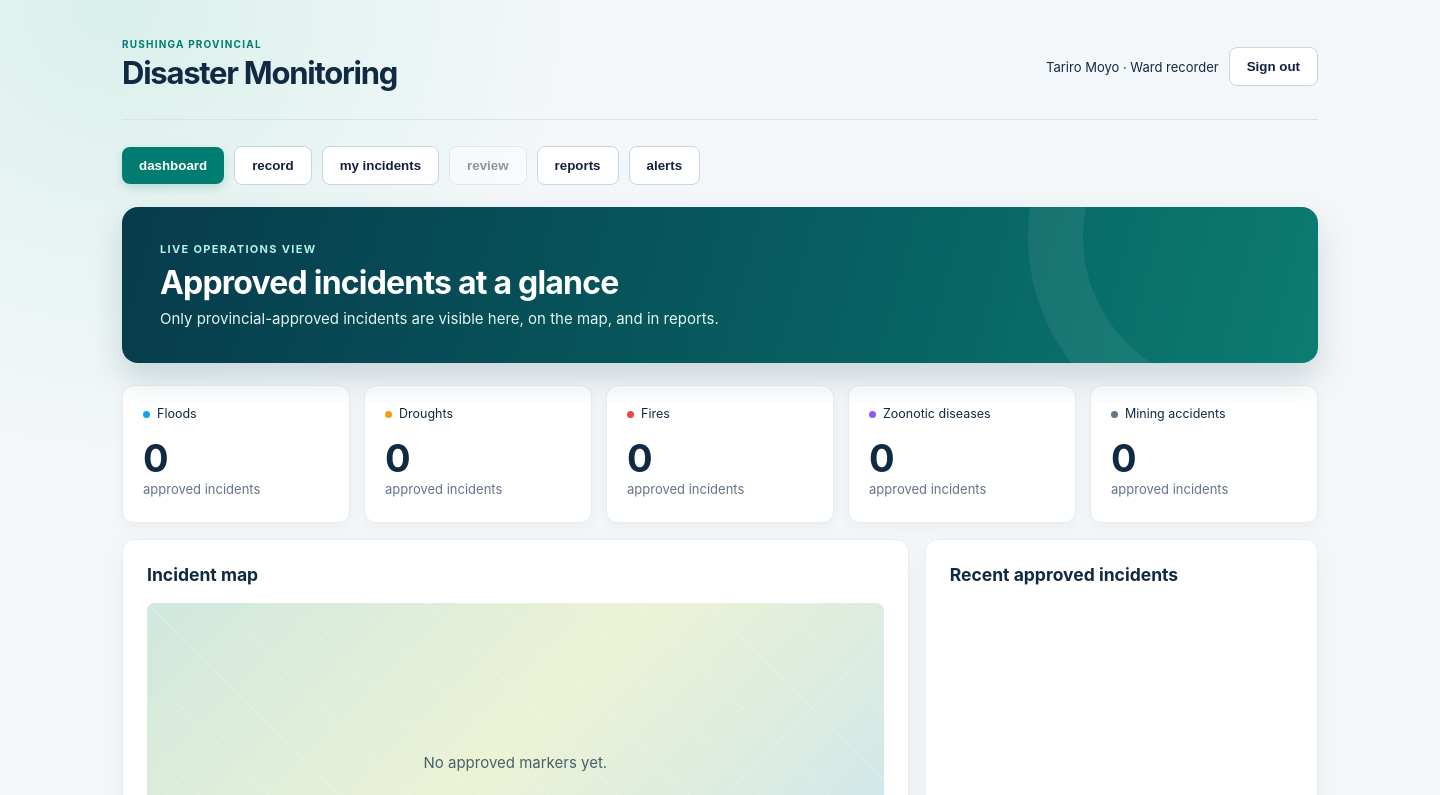
Test case: Incident Submission and Editing Workflows › allows editing and resubmission of an incident marked CORRECTION_REQUESTED
Note: Go to my-incidents
Click the button "my incidents": (380, 166) [322,146,439,185]
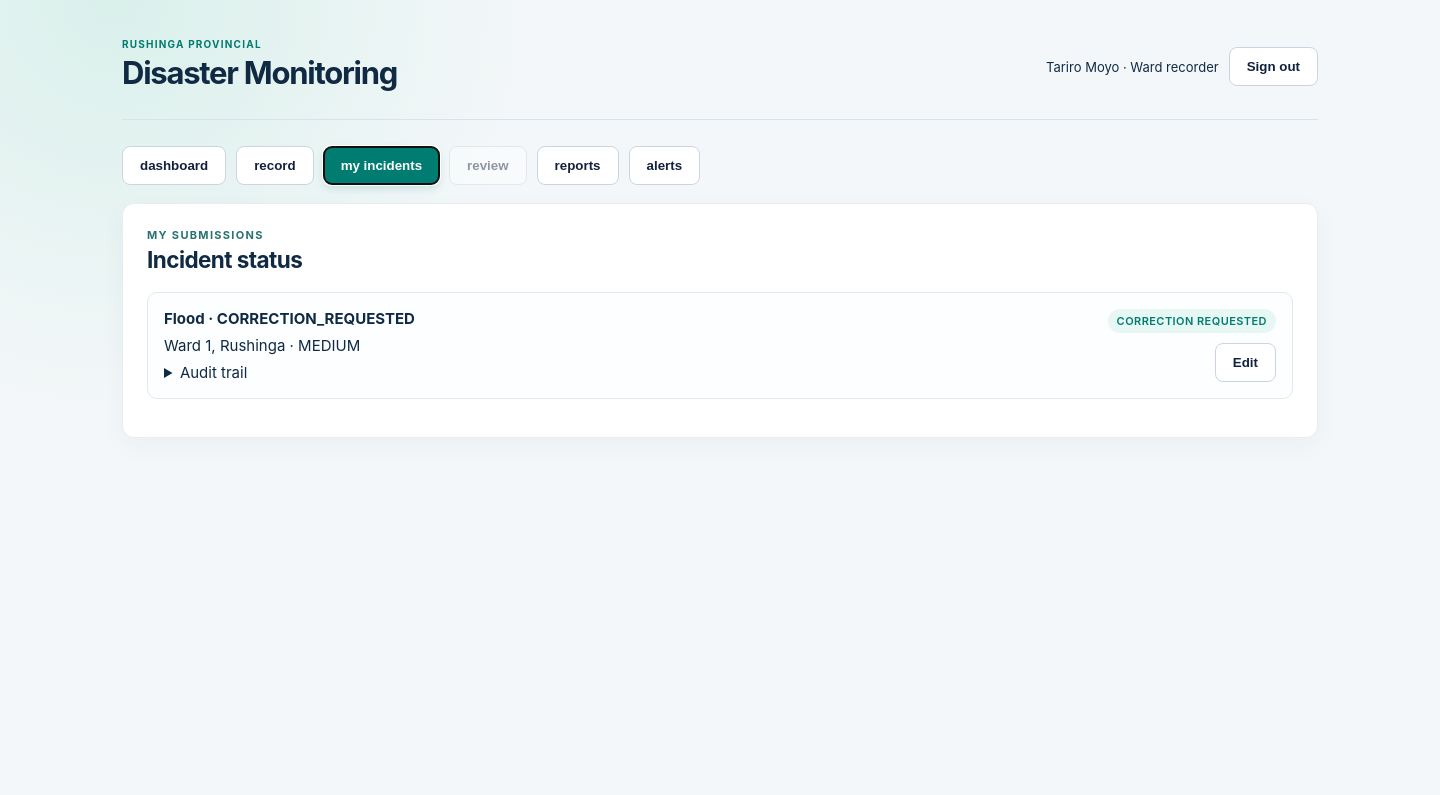
Expected: the text "Flood · CORRECTION_REQUESTED" is shown, [164,309,415,328]
Note: Click Edit button
Click the button "Edit": (1245, 362) [1215,343,1276,382]
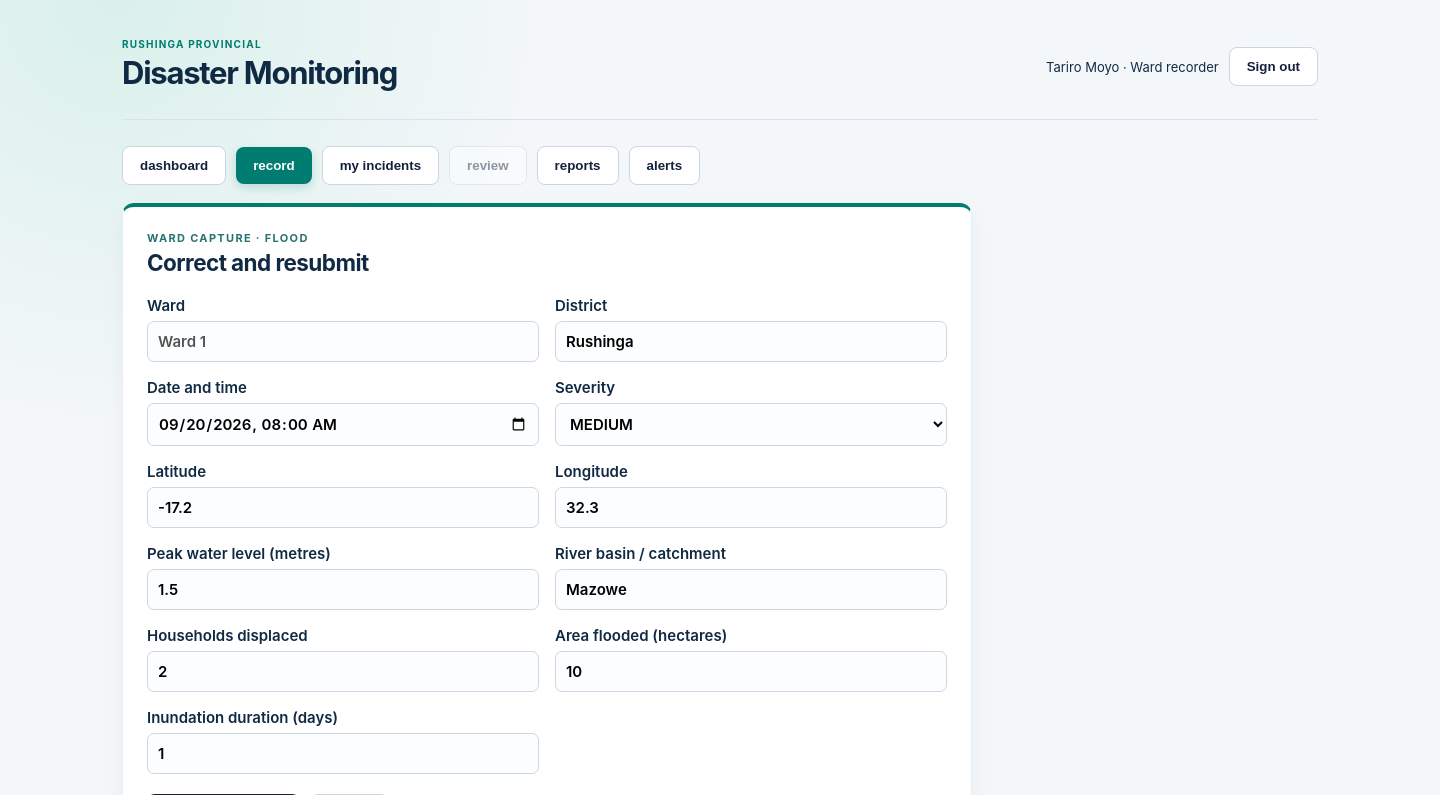
Expected: the heading "Correct and resubmit" is shown, [147,249,369,276]
Note: Update peak water level
Replace the text in the field labelled "Peak water level (metres)" with "2.1": (343, 590) [147,569,539,610]
(page scrolled)
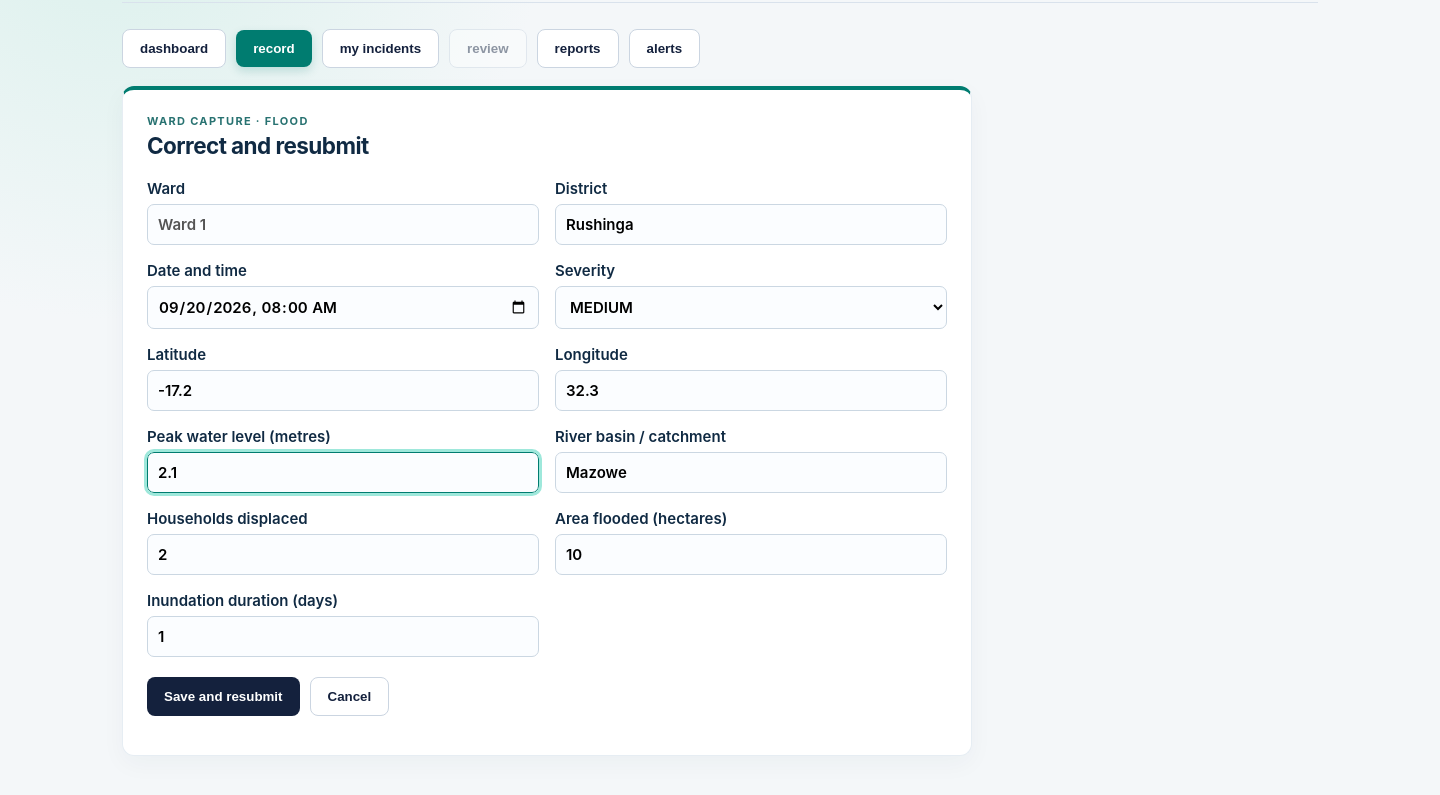
Note: Submit corrections
Click the button "Save and resubmit": (223, 696) [147,677,300,716]
(page scrolled)
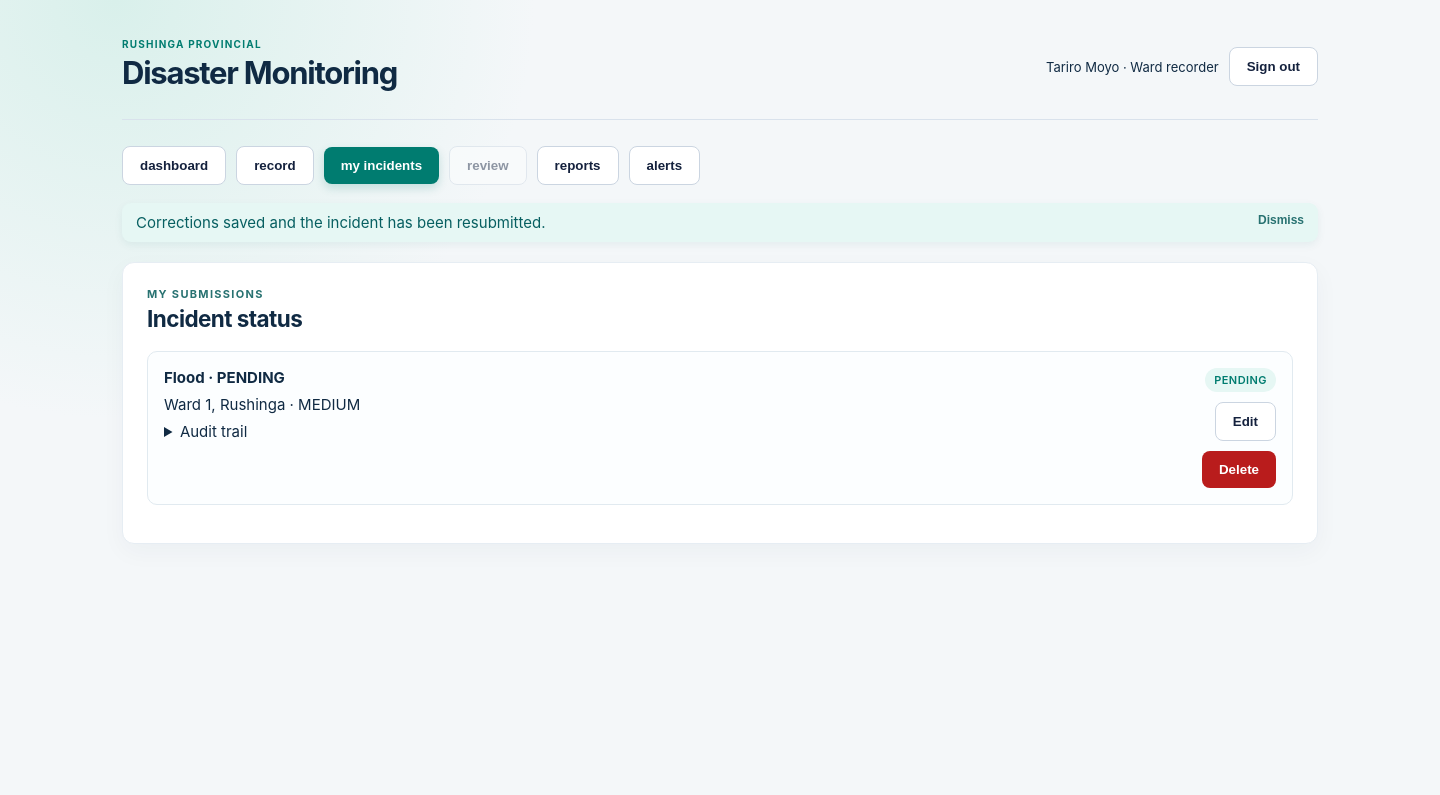
Expected: the text "Corrections saved and the incident has been resubmitted" is shown, [136,213,546,232]
Expected: the text "PENDING" is shown, [1205,368,1276,392]
